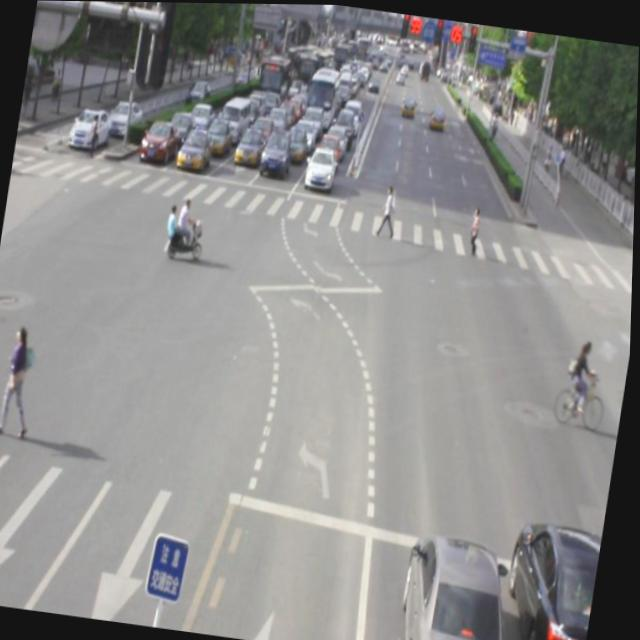car: (396, 529, 524, 640), (496, 517, 605, 640)
